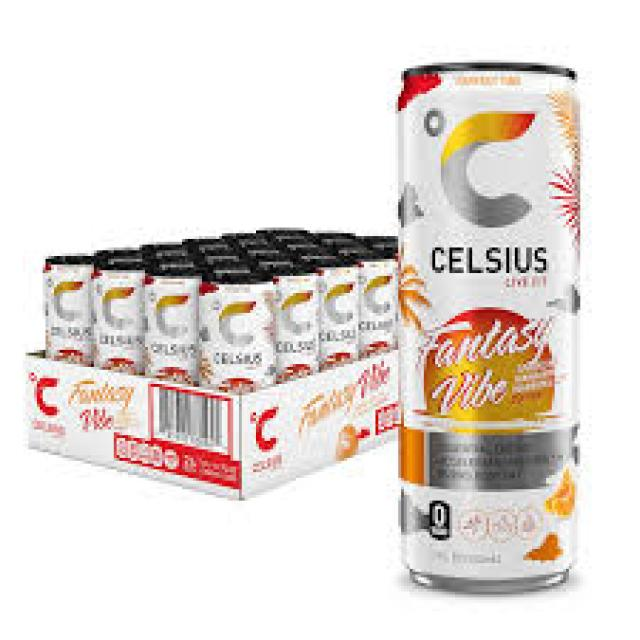Cans: (393, 54, 583, 600)
